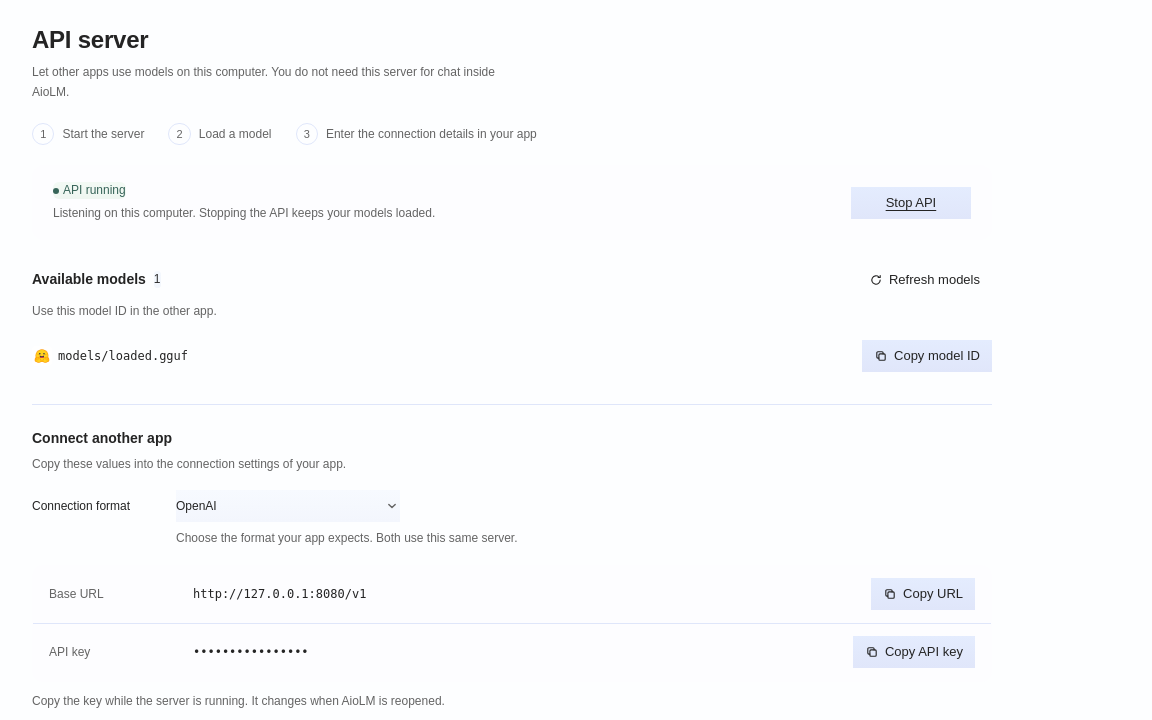
Test case: API server lifecycle › never stops or unloads the model when the API is stopped
This screenshot has width=1152, height=720.
Expected: the text "models/loaded.gguf" is shown, [32, 346, 188, 366]
Step 1. Click the button named "Stop API" in the row of "API running" → coordinates (911, 203), box [851, 187, 971, 219]
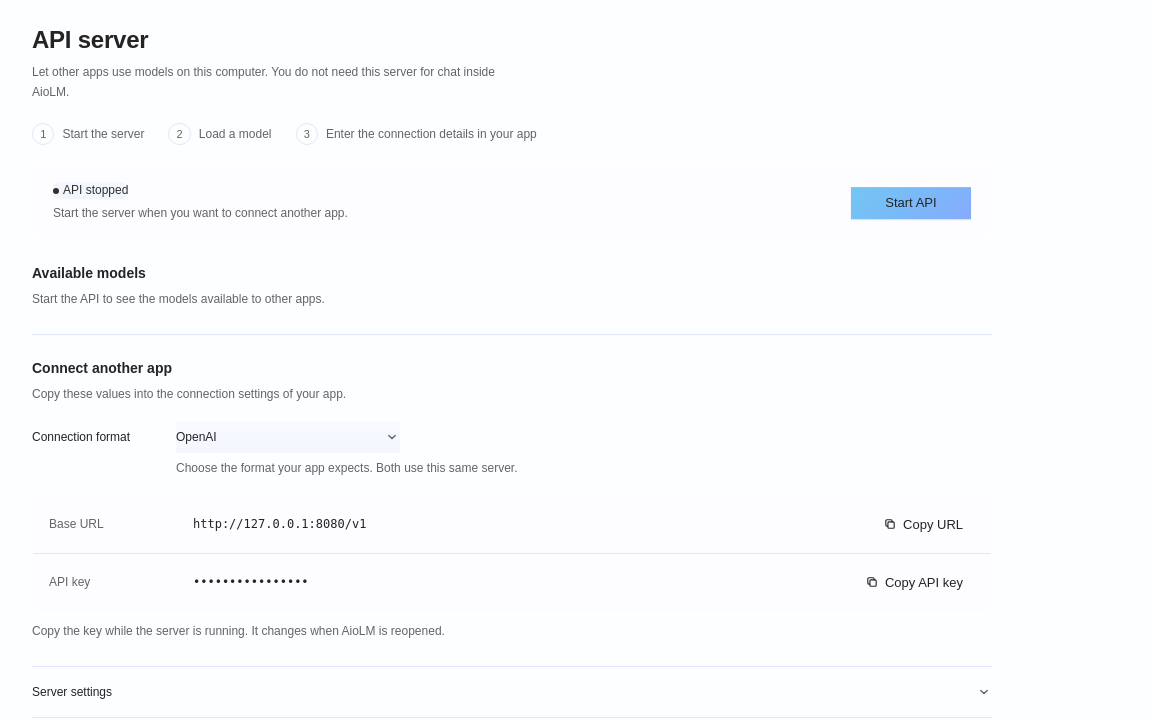
Now the text "models/loaded.gguf" is gone
Now the list with class "api-model-list" is gone
Now the text with class "api-model-count" is gone
